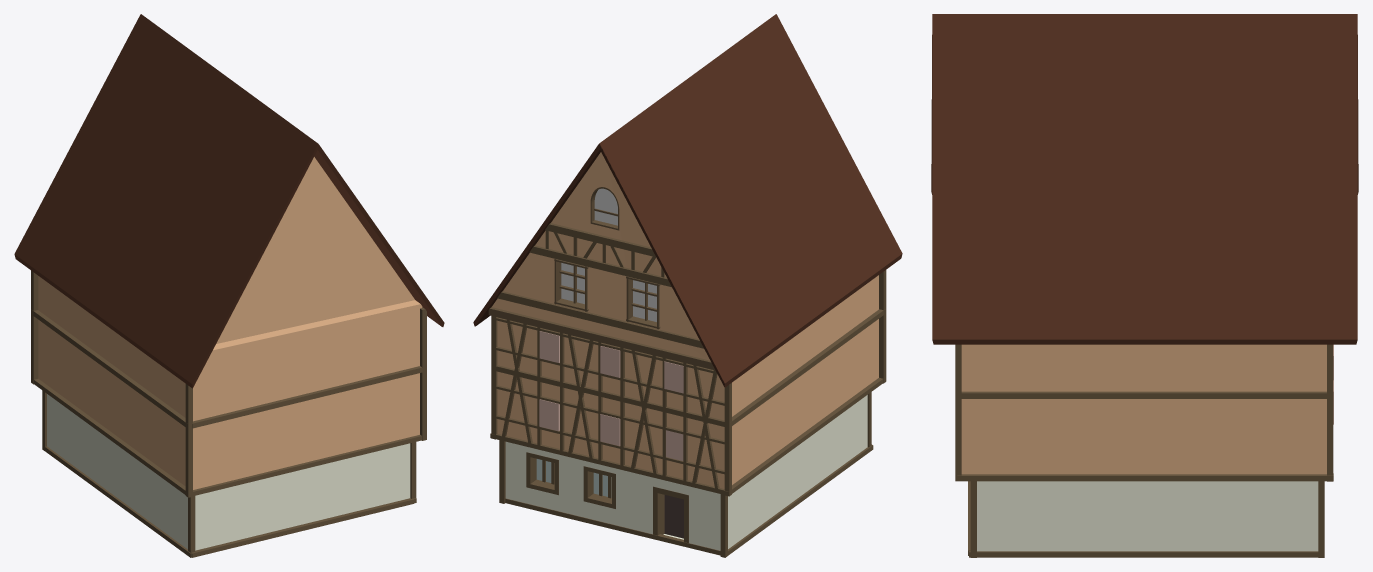
The model's file is house1ver2.fbx.
3 renders of one model, left to right at view 1: azimuth 30°, elevation 25°; view 2: azimuth 150°, elevation 25°; view 3: azimuth 270°, elevation 25°, orthographic. The views are drawn at different scales.
Parts seen in each view (by area): view 1: Roof, Floor_2, Floor_3, Base_Stone, 円, 立方体.094, 立方体.098, 立方体.089, 立方体.093, 立方体.088, 立方体.097, 立方体.090 (+2 smaller); view 2: Roof, Floor_2, Base_Stone, 円, Floor_3, 立方体.031, 立方体.061, 立方体.093, 立方体.092, 立方体.088, 立方体.030, 立方体.052 (+27 smaller); view 3: Roof, Floor_2, Base_Stone, Floor_3, 立方体.087, 立方体.081, 立方体.095, 立方体.022, 立方体.090, 立方体.024, 立方体.096.
Part boxes in pixels (x1,y1,x2,y2): Roof: (14,14,444,388); Floor_2: (38,320,419,489); Floor_3: (38,276,422,421); Base_Stone: (47,394,410,550); 円: (216,157,414,343); 立方体.094: (192,366,423,428); 立方体.098: (191,498,414,557); 立方体.089: (192,435,421,496); 立方体.093: (31,310,187,428); 立方体.088: (34,378,185,494); 立方体.097: (45,447,191,557); 立方体.090: (420,307,426,440); Roof: (473,14,902,387); Floor_2: (497,319,878,488); Base_Stone: (505,395,867,550); 円: (492,152,710,360); Floor_3: (497,275,878,420); 立方体.031: (488,307,715,370); 立方体.061: (497,291,703,348); 立方体.093: (730,309,885,427); 立方体.092: (495,365,725,426); 立方体.088: (724,377,883,496); 立方体.030: (495,433,724,494); 立方体.052: (529,245,671,287); Roof: (931,14,1358,344); Floor_2: (961,399,1326,474); Base_Stone: (977,481,1318,551); Floor_3: (961,344,1326,391); 立方体.087: (957,473,1333,481); 立方体.081: (956,391,1326,398); 立方体.095: (969,551,1318,557); 立方体.022: (1327,344,1333,481); 立方体.090: (955,344,961,481); 立方体.024: (1318,481,1324,557); 立方体.096: (970,481,976,557).
Bounding box in the file's own units: 1275 × 1921 × 1559.
